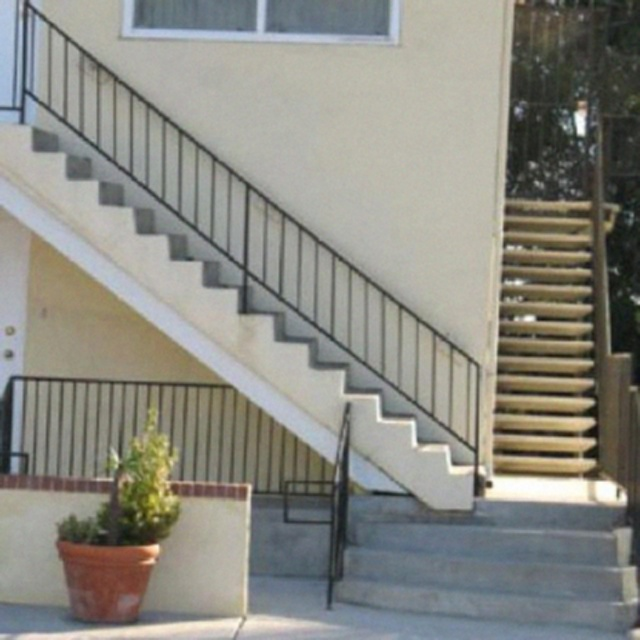stair: (2, 0, 506, 517), (483, 157, 635, 517)
